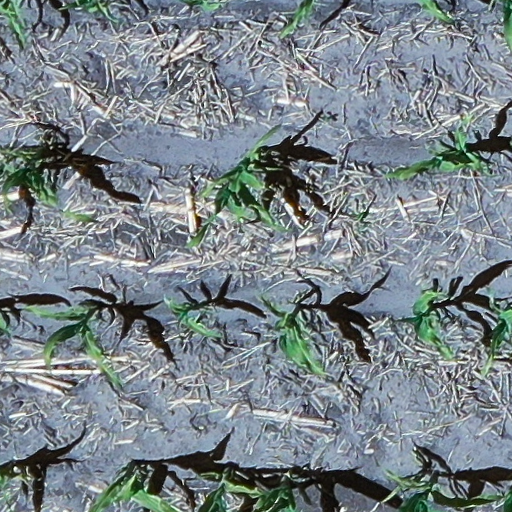planta: (185, 129, 289, 248), (25, 304, 122, 386), (385, 113, 495, 179), (261, 294, 326, 379), (409, 287, 458, 361), (161, 292, 220, 338)
